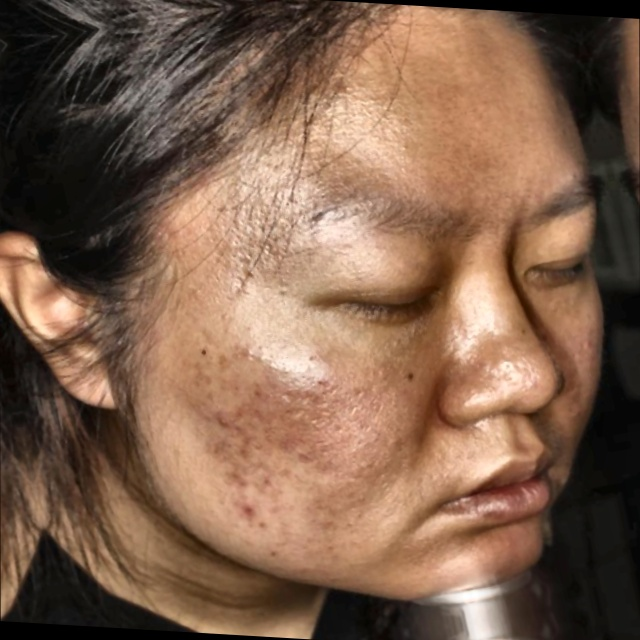comedone: (220, 493, 264, 534), (208, 398, 238, 443)
